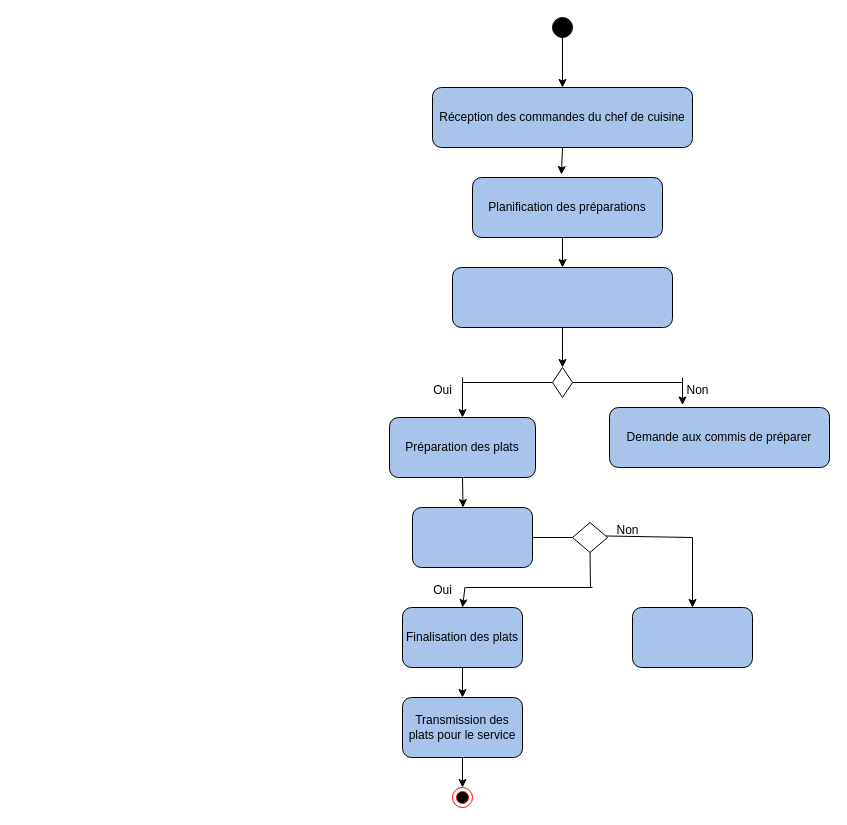
Image size: 847x825. Some labels were removed from this diagram. Each missing label, with the centre of its shape:
Les ingrédients sont-ils disponibles ?: (562,297)
Les plats respectent-ils les instructions?: (472,537)
Rectification des préparations: (692,637)
